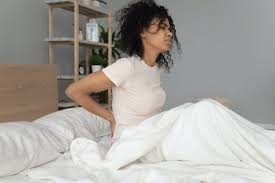bed-matress: (1, 121, 273, 183)
